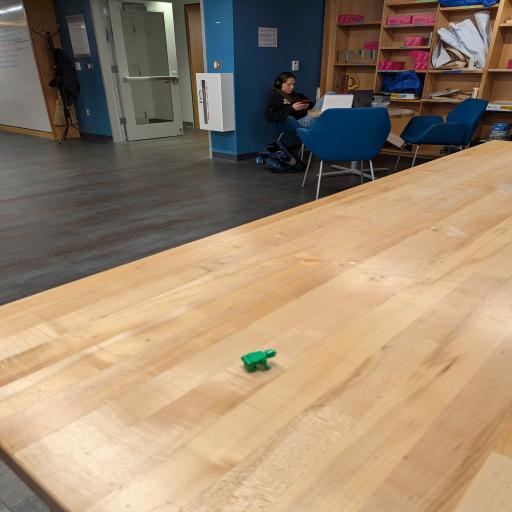Minifig: (241, 349, 276, 372)
